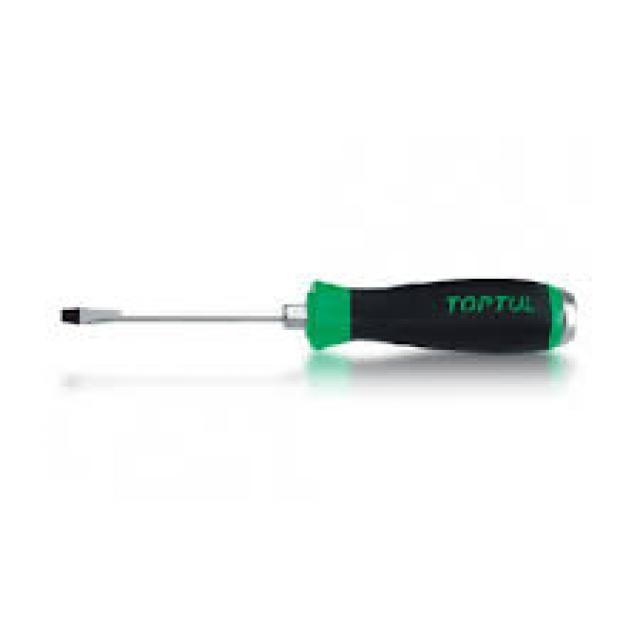screwdriver: (52, 277, 578, 357)
